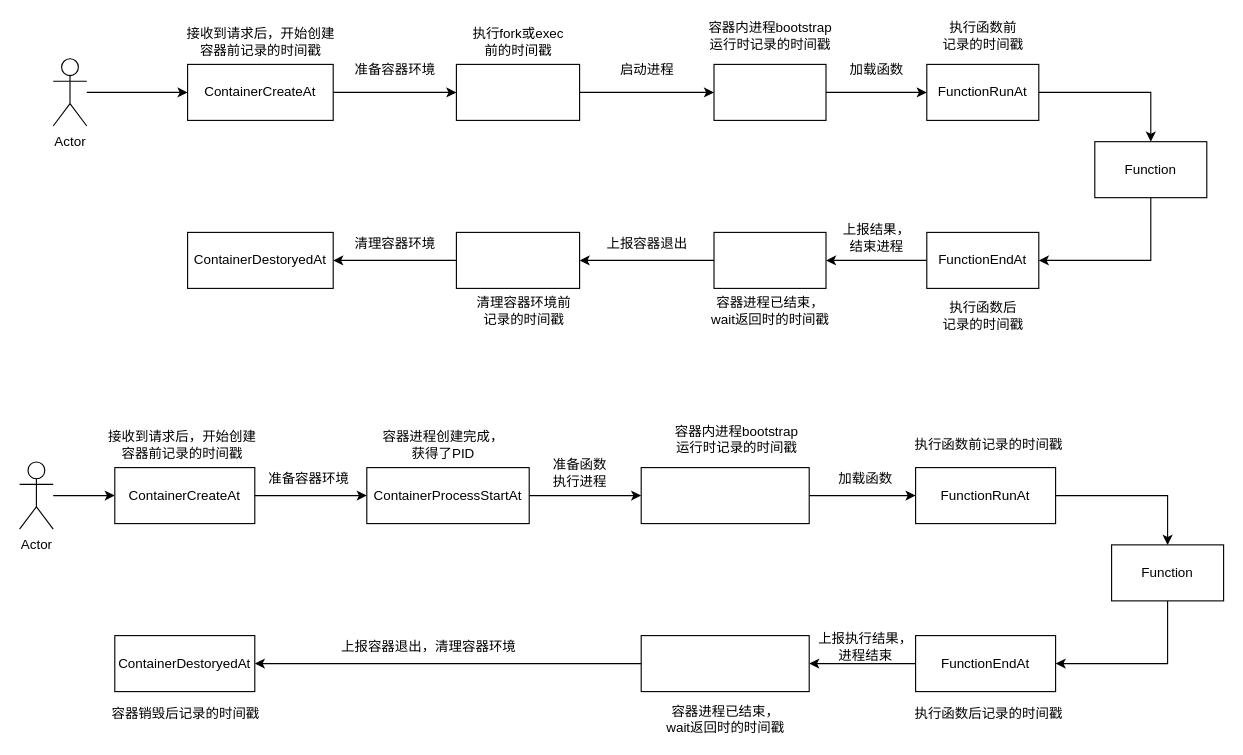
This 1243x755 diagram has some shape labels left out. The shapes that lost their labels are listed below. From the top down, each one's box as (x1, y1, x2, y2) in pixels, then its label:
(455, 63, 580, 120): ContainerStartAt
(713, 63, 826, 120): ContainerRunAt
(455, 231, 580, 288): ContainerCleanAt
(713, 231, 826, 288): ContainerEndAt
(640, 466, 809, 524): ContainerProcessRunAt
(640, 634, 809, 692): ContainerProcessEndAt
